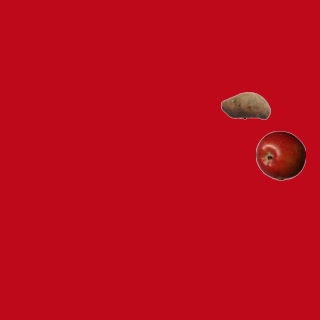Apple Braeburn: (255, 130, 305, 180)
Potato Sweet: (220, 80, 270, 130)
